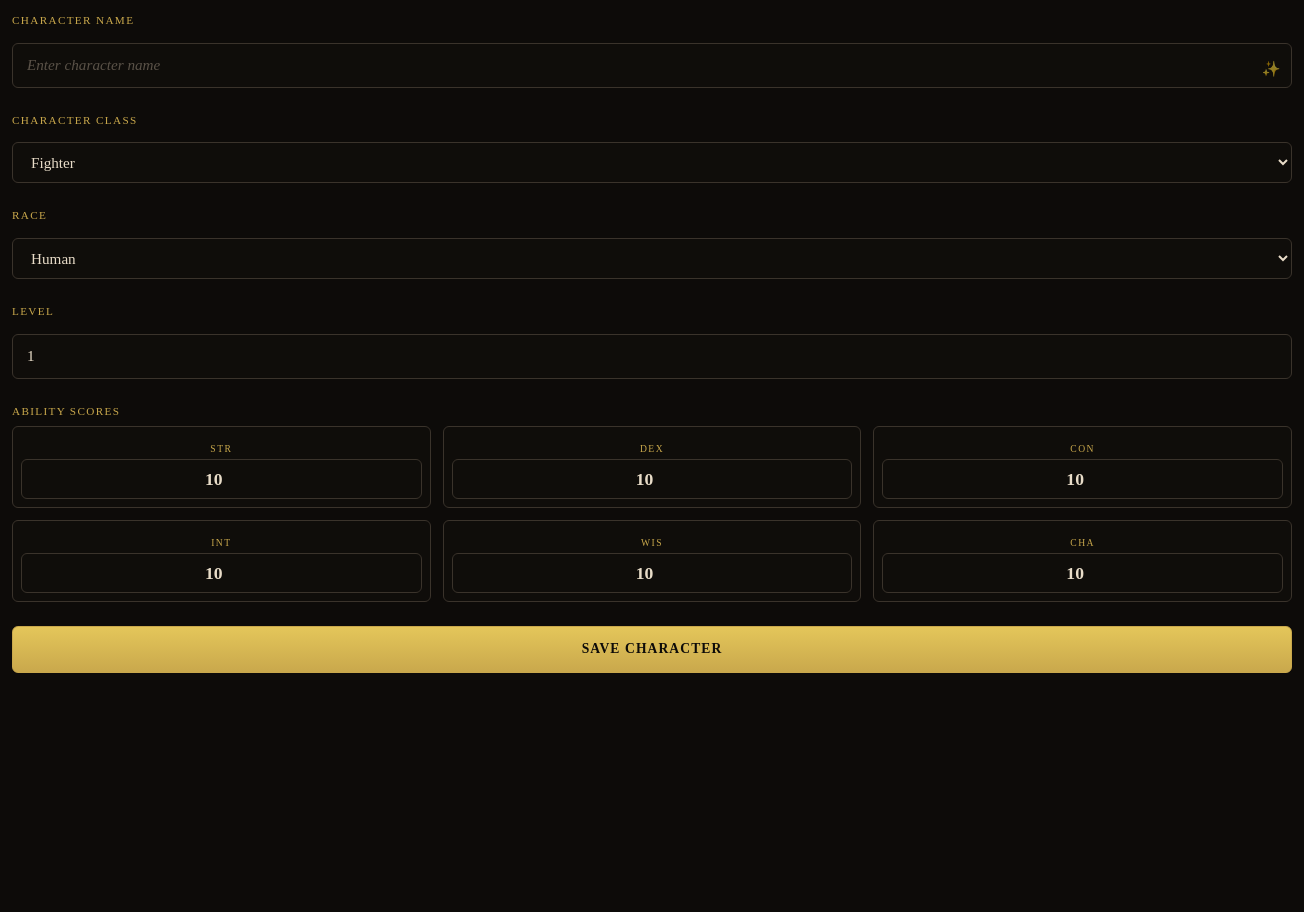
CharacterCreationForm › submission › shows a network error banner when fetch rejects
The width and height of the screenshot is (1304, 912).
Type "Aragorn" into the field with placeholder "Enter character name".
click(652, 65); type("Aragorn")  # box left=12, top=43, right=1292, bottom=88
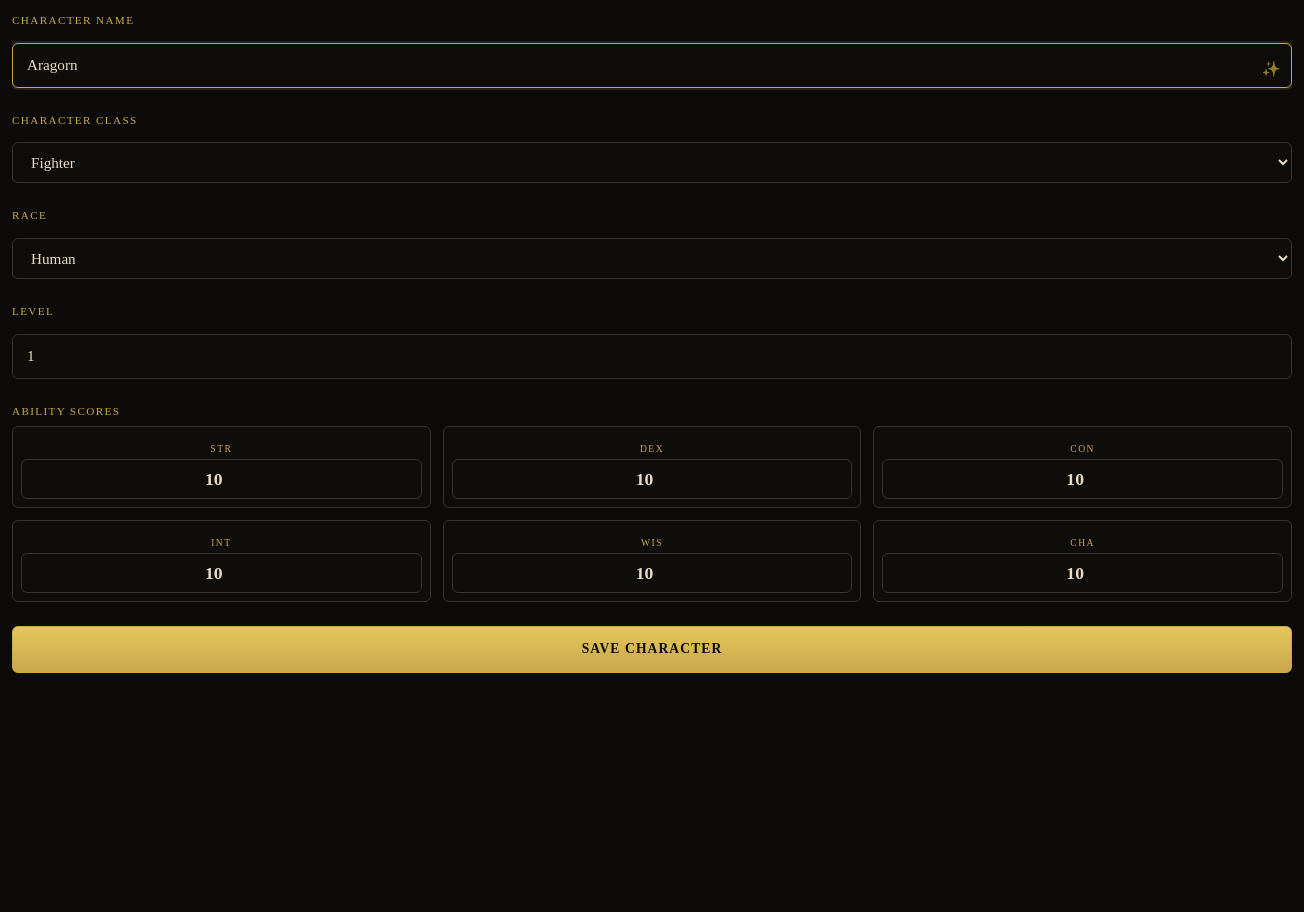
Click the button "Save Character".
click(652, 650)  # box left=12, top=626, right=1292, bottom=673
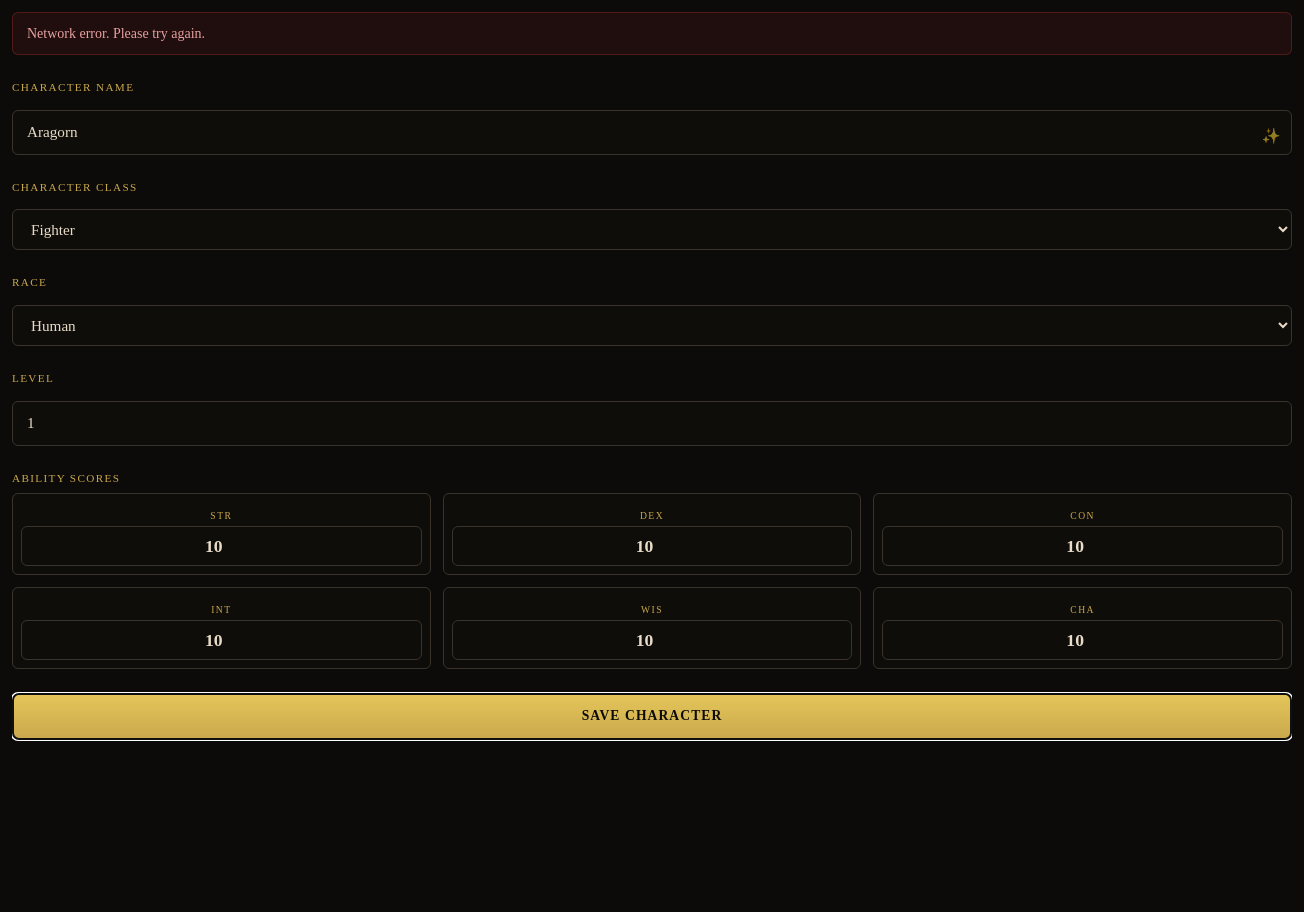
Expected: the text "Network error. Please try again." is shown, left=12, top=12, right=1292, bottom=55
